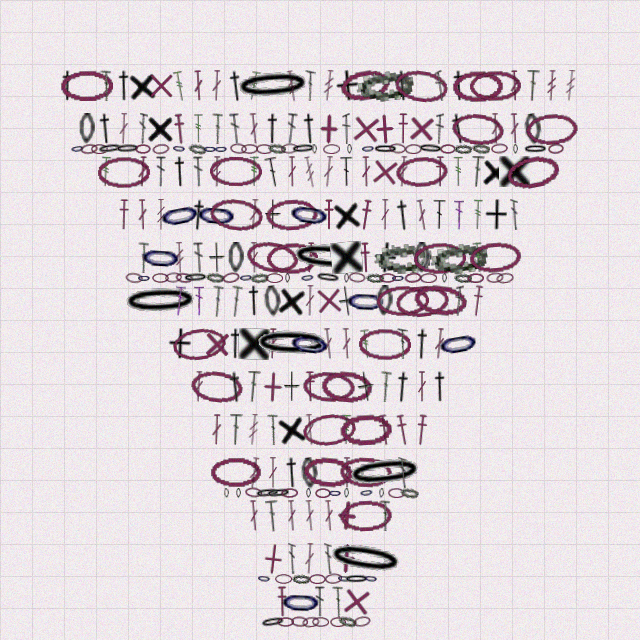chain: (325, 538, 406, 580), (345, 453, 425, 492), (289, 239, 369, 276), (233, 67, 313, 104), (121, 284, 200, 318), (253, 327, 331, 360), (429, 239, 489, 277), (504, 152, 561, 192), (244, 238, 301, 277), (355, 67, 415, 104), (393, 67, 450, 105), (338, 66, 393, 105), (171, 325, 227, 363), (301, 411, 357, 448), (189, 368, 245, 405), (412, 282, 468, 319), (208, 196, 264, 233), (394, 283, 450, 319), (450, 111, 505, 147), (374, 241, 432, 275), (468, 240, 523, 275), (320, 369, 374, 404), (302, 455, 355, 490), (302, 370, 356, 404), (395, 155, 449, 189), (525, 112, 579, 146), (156, 196, 204, 234), (339, 456, 393, 489), (265, 198, 319, 231), (339, 499, 392, 532), (339, 413, 392, 446), (435, 325, 482, 362), (286, 196, 333, 233), (97, 156, 151, 188), (358, 328, 411, 360), (376, 285, 429, 317), (413, 242, 466, 274), (469, 70, 522, 102), (209, 156, 263, 187), (266, 242, 318, 274), (452, 70, 504, 102), (287, 326, 333, 362), (60, 70, 113, 101), (210, 457, 262, 488), (194, 198, 239, 232), (139, 241, 183, 274), (279, 586, 323, 618), (344, 285, 388, 317), (523, 113, 543, 145), (300, 457, 319, 489), (263, 285, 282, 317), (376, 285, 393, 316), (228, 242, 244, 273), (414, 242, 430, 273), (79, 113, 95, 144), (260, 615, 286, 629), (315, 271, 341, 284), (97, 142, 123, 155), (255, 487, 280, 499), (266, 487, 291, 499), (183, 272, 208, 283), (115, 143, 140, 154), (291, 143, 316, 154), (418, 143, 443, 154), (344, 574, 369, 584), (373, 144, 398, 154), (523, 144, 548, 154), (338, 615, 357, 628), (353, 615, 371, 628), (222, 271, 240, 284), (400, 487, 419, 499), (250, 272, 269, 284), (188, 143, 207, 155), (302, 616, 320, 628), (125, 272, 143, 284), (175, 272, 193, 284), (496, 272, 514, 284), (80, 143, 98, 155), (152, 143, 170, 155), (206, 272, 224, 283), (348, 272, 366, 283), (404, 272, 422, 283), (486, 272, 504, 283), (268, 143, 286, 154), (472, 143, 490, 154), (291, 616, 308, 627), (325, 573, 342, 584), (245, 487, 262, 498), (165, 272, 182, 283), (230, 143, 247, 154), (281, 143, 298, 154), (389, 143, 406, 154), (491, 143, 508, 154), (292, 574, 310, 584), (366, 273, 384, 283), (454, 273, 472, 283), (454, 144, 472, 154), (548, 143, 564, 154), (277, 617, 294, 627), (312, 617, 329, 627), (275, 574, 292, 584), (309, 574, 326, 584), (281, 488, 298, 498), (388, 488, 405, 498), (152, 273, 169, 283), (266, 273, 283, 283), (379, 273, 396, 283), (420, 273, 437, 283), (467, 273, 484, 283), (91, 144, 108, 154), (241, 144, 258, 154), (256, 144, 273, 154), (323, 144, 340, 154), (405, 144, 422, 154), (359, 487, 374, 498), (300, 272, 315, 283), (70, 143, 85, 154), (330, 617, 346, 627), (315, 488, 331, 498), (135, 144, 151, 154), (440, 144, 456, 154), (257, 573, 271, 584), (337, 573, 351, 584), (364, 573, 378, 584), (239, 272, 253, 283), (172, 143, 186, 154), (361, 143, 375, 154), (328, 488, 342, 498), (137, 273, 151, 283), (391, 273, 405, 283), (203, 144, 217, 154), (214, 144, 228, 154), (224, 488, 229, 498), (236, 488, 241, 498), (306, 488, 311, 498), (344, 488, 349, 498), (379, 488, 384, 498), (285, 273, 290, 283), (344, 273, 349, 283), (442, 273, 447, 283), (312, 144, 317, 154), (347, 144, 352, 154), (513, 144, 518, 154)
double: (264, 156, 282, 188), (265, 500, 280, 532), (228, 285, 243, 317), (246, 371, 261, 402), (470, 156, 485, 187), (247, 457, 261, 489), (210, 285, 224, 317), (415, 199, 429, 231), (229, 414, 243, 445), (378, 371, 392, 402), (526, 70, 540, 101), (322, 328, 335, 359), (433, 328, 446, 359), (173, 285, 186, 316), (433, 199, 446, 230), (322, 156, 335, 187), (340, 156, 353, 187), (229, 113, 242, 144), (285, 113, 298, 144), (248, 500, 260, 531), (286, 500, 298, 531), (304, 500, 316, 531), (323, 500, 335, 531), (304, 414, 316, 445), (137, 242, 149, 273), (193, 242, 205, 273), (304, 242, 316, 273), (248, 199, 260, 230), (397, 156, 409, 187), (211, 113, 223, 144), (248, 113, 260, 144), (304, 70, 316, 101), (434, 70, 446, 101), (332, 586, 343, 617), (304, 543, 315, 574), (379, 500, 390, 531), (211, 414, 222, 445), (267, 414, 278, 445), (193, 371, 204, 402), (267, 328, 278, 359), (341, 328, 352, 359), (397, 328, 408, 359), (137, 199, 148, 230), (137, 156, 148, 187), (193, 156, 204, 187), (118, 113, 129, 144), (137, 113, 148, 144), (490, 113, 501, 144), (509, 113, 520, 144), (100, 70, 111, 101), (193, 70, 204, 101), (211, 70, 222, 101), (509, 70, 520, 101), (315, 586, 325, 617), (268, 457, 278, 488), (342, 457, 352, 488), (398, 457, 408, 488), (417, 371, 427, 402), (194, 285, 204, 316), (305, 285, 315, 316), (454, 285, 464, 316), (249, 242, 259, 273), (380, 199, 390, 230), (454, 199, 464, 230), (156, 156, 166, 187), (287, 156, 297, 187), (361, 156, 371, 187), (324, 543, 333, 574), (510, 199, 519, 230), (342, 113, 351, 144), (435, 113, 444, 144), (288, 543, 296, 574)
half_double: (448, 112, 469, 145), (392, 371, 413, 403), (188, 199, 209, 231), (412, 328, 432, 360), (393, 199, 413, 231), (226, 70, 246, 102), (226, 371, 245, 403), (226, 328, 245, 359), (96, 113, 115, 144), (263, 113, 282, 144), (300, 113, 319, 144), (58, 70, 77, 101), (393, 70, 412, 101), (283, 457, 301, 488), (431, 371, 449, 402), (245, 285, 263, 316), (171, 156, 189, 187), (115, 70, 133, 101), (450, 70, 468, 101), (394, 414, 411, 446), (358, 199, 374, 231), (377, 414, 392, 446), (414, 414, 429, 446), (470, 285, 485, 317), (172, 113, 187, 145), (359, 242, 372, 273), (276, 586, 288, 617), (304, 371, 316, 402), (118, 199, 130, 230), (323, 199, 335, 230), (434, 156, 446, 187), (397, 113, 409, 144)
single: (339, 584, 374, 619), (275, 412, 309, 447), (256, 542, 290, 576), (368, 155, 402, 189), (349, 112, 383, 146), (330, 542, 363, 575), (330, 499, 363, 532), (330, 241, 363, 274), (405, 112, 438, 145), (276, 284, 308, 318), (331, 198, 363, 232), (313, 284, 345, 317), (257, 371, 289, 403), (201, 328, 233, 360), (238, 328, 270, 360), (313, 113, 345, 145), (369, 113, 401, 145), (127, 70, 158, 102), (499, 156, 530, 187), (481, 156, 511, 188), (146, 70, 176, 101), (146, 113, 175, 144), (372, 241, 398, 274), (334, 69, 360, 102), (167, 328, 192, 359), (484, 199, 508, 230), (356, 370, 376, 403), (337, 285, 357, 317), (284, 371, 300, 402), (209, 242, 225, 273), (265, 199, 281, 230)
treble: (302, 156, 318, 188), (172, 70, 188, 102), (246, 70, 262, 102), (359, 328, 373, 360), (285, 70, 299, 102), (247, 414, 260, 445), (322, 70, 335, 101), (564, 70, 577, 101), (472, 242, 484, 273), (472, 199, 484, 230), (100, 156, 112, 187), (341, 414, 352, 445), (174, 242, 185, 273), (453, 156, 464, 187), (193, 113, 204, 144), (546, 70, 557, 101), (156, 199, 166, 230), (212, 156, 222, 187), (249, 156, 259, 187)
